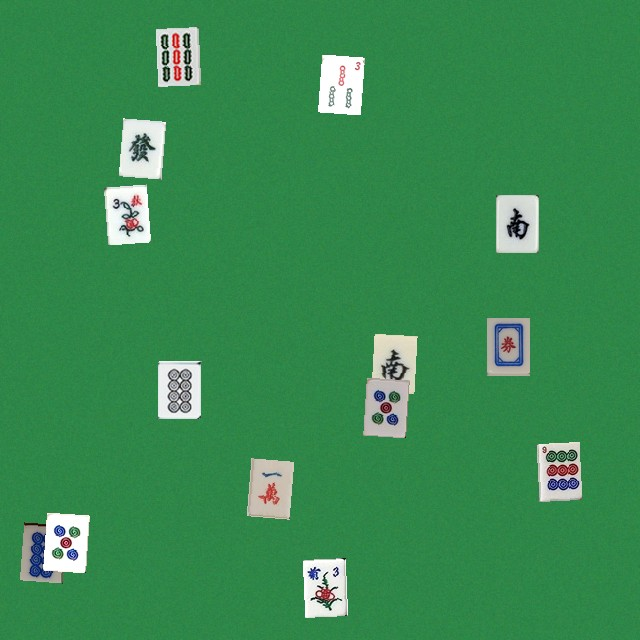tile: (157, 360, 200, 418), (155, 27, 198, 85), (495, 194, 538, 252), (371, 333, 414, 391), (486, 317, 529, 375), (363, 377, 406, 435), (118, 118, 161, 176), (103, 184, 146, 242), (302, 558, 345, 616), (536, 441, 579, 499), (19, 522, 62, 580), (246, 458, 289, 516), (43, 512, 86, 570), (317, 54, 360, 112)
